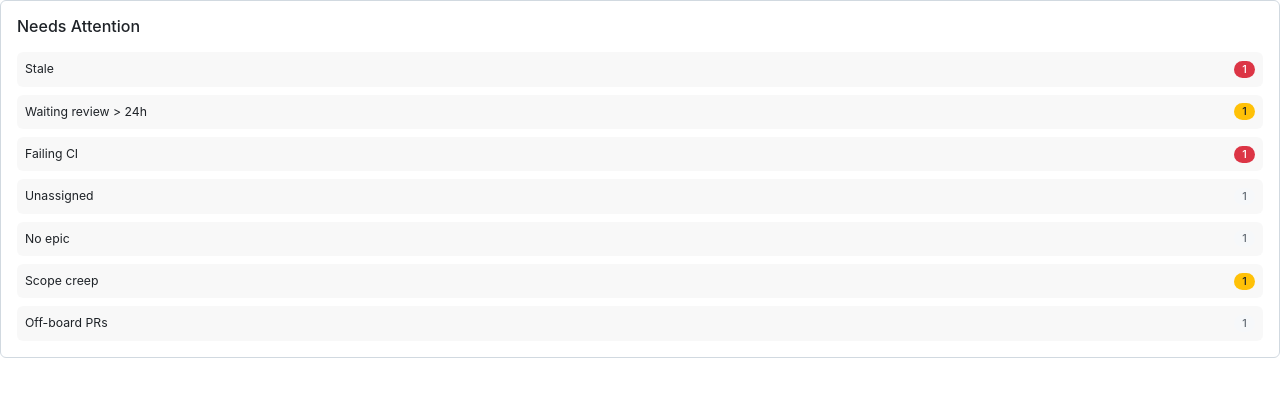
Test: NeedsAttentionPanel › shows staleness detail on stale chips when staleDays map is provided
The width and height of the screenshot is (1280, 414).
Click the text "Stale". click: (640, 69)
box: [17,52,1263,87]
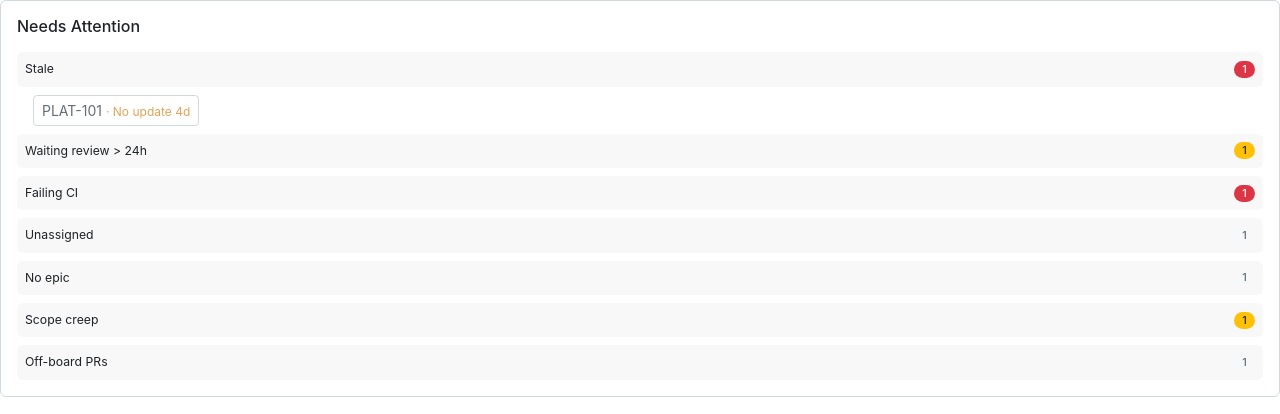
Result: the text "· No update 4d" is shown at [106,104,190,119]
